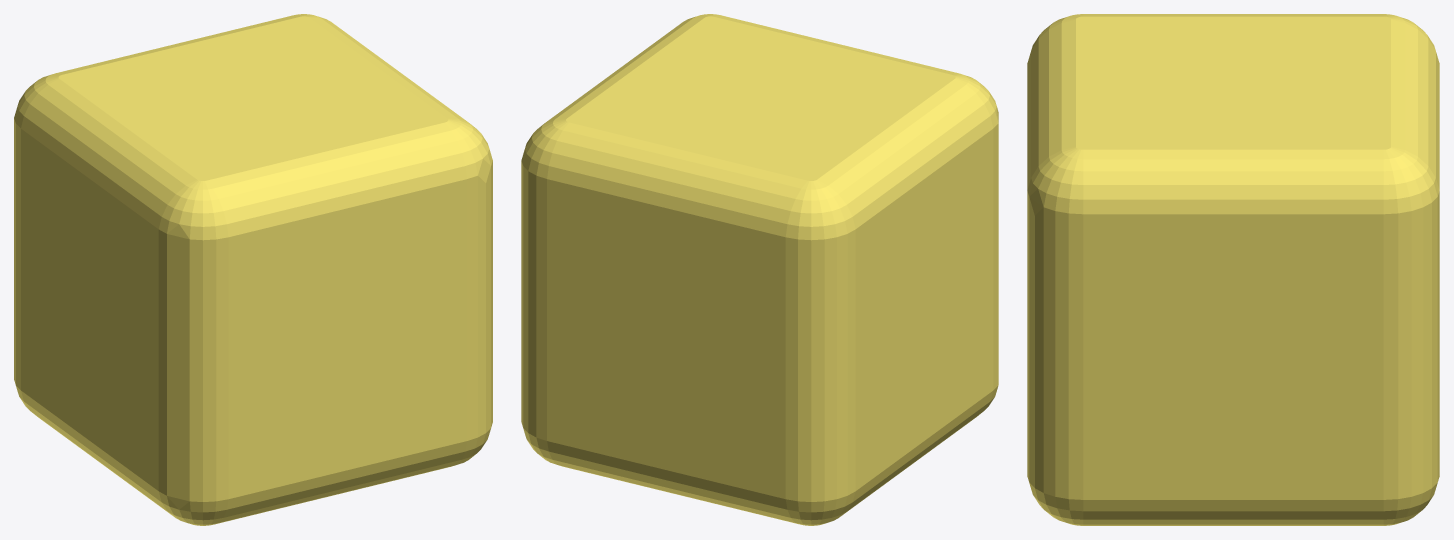
The model's file is rounded-cube.glb.
The picture shows the model from 3 angles, left to right: view 1: azimuth 30°, elevation 25°; view 2: azimuth 150°, elevation 25°; view 3: azimuth 270°, elevation 25°; orthographic projection. The views are drawn at different scales.
Size of the model in its own units: 21.95 by 21.95 by 21.95.
